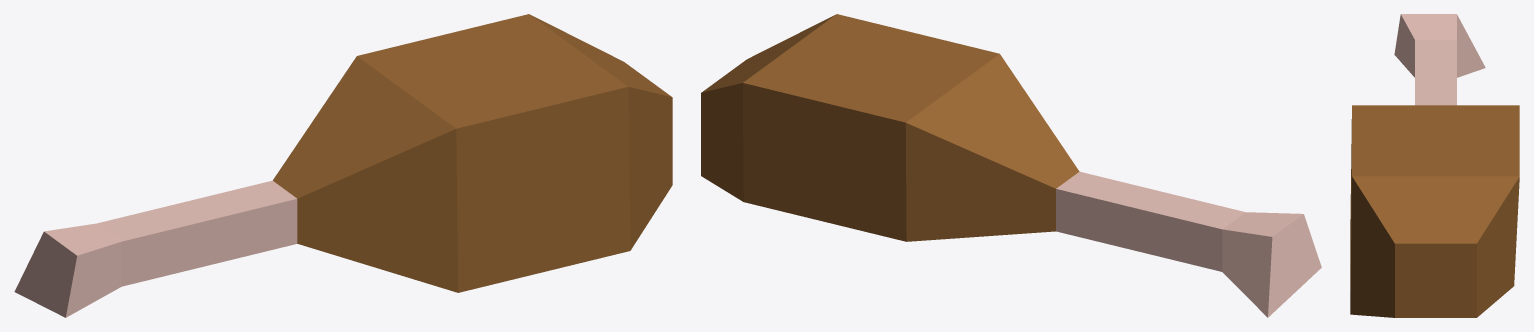
The model's file is chickenLeg.fbx.
3 renders of one model, left to right at view 1: azimuth 30°, elevation 25°; view 2: azimuth 150°, elevation 25°; view 3: azimuth 270°, elevation 25°, orthographic. The views are drawn at different scales.
Visible parts, largest first — view 1: Chicken; view 2: Chicken; view 3: Chicken.
Boxes of the visible parts, box(x1,y1,x2,y2) form: Chicken: box(14, 14, 672, 317); Chicken: box(701, 14, 1321, 317); Chicken: box(1350, 14, 1519, 317).
Size of the model in its own units: 10.57 by 2.72 by 3.03.
